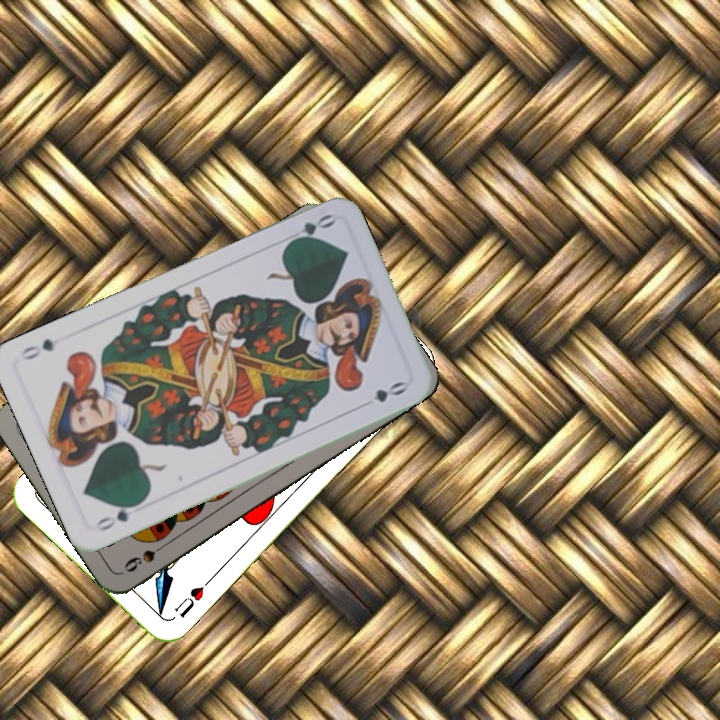GO: (280, 209, 337, 248), (92, 497, 145, 534)
HU: (170, 575, 214, 621)
S9: (119, 537, 172, 575)
